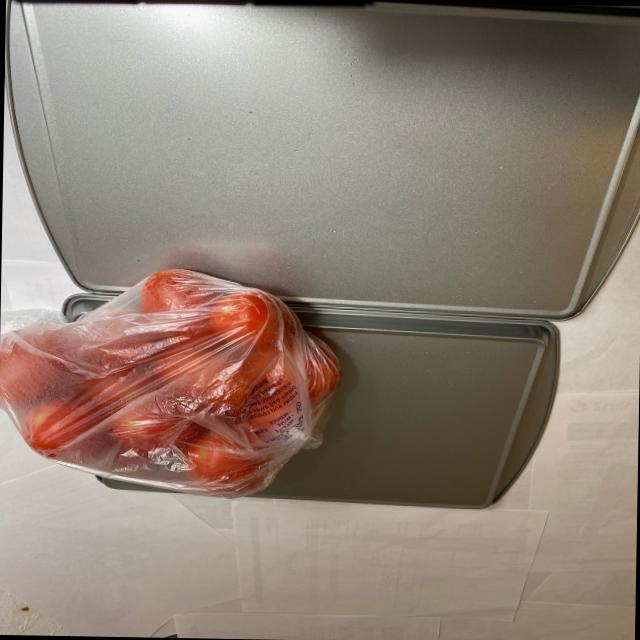tomato: (0, 271, 343, 497)
